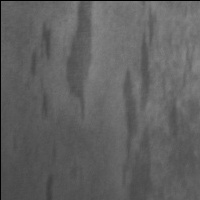inclusion: (118, 63, 160, 200), (62, 2, 96, 127), (135, 5, 156, 115), (28, 19, 57, 81), (163, 87, 185, 142), (37, 76, 53, 121), (41, 170, 56, 200)
